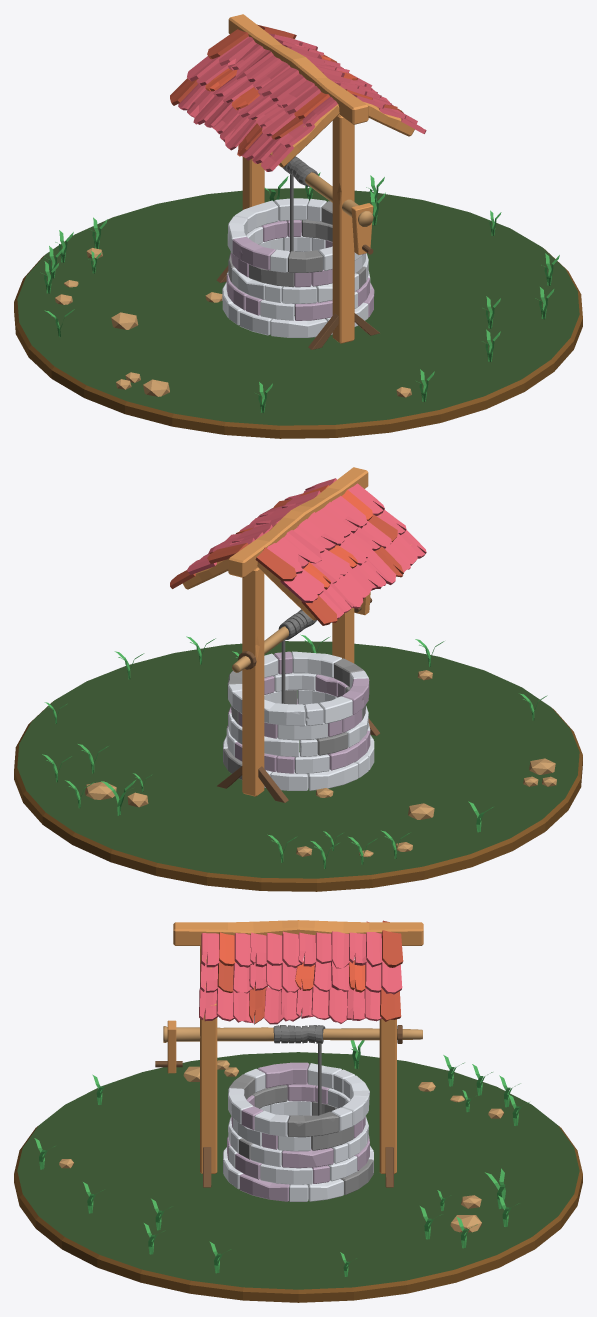
3 renders of one model, top to bottom at view 1: azimuth 30°, elevation 25°; view 2: azimuth 150°, elevation 25°; view 3: azimuth 270°, elevation 25°, orthographic.
Visible parts, largest first — view 1: Ground_11, Tiles_30, Cube_47, b5_46, b4_45, b3_44, Cube.001_48, b1_42, b2_43, Plane.001_49, Circle_50, Cube.002_51 (+1 smaller); view 2: Ground_11, Tiles_30, Cube_47, b5_46, b3_44, b4_45, Cube.001_48, b1_42, b2_43, Plane.001_49, Cube.002_51, Circle_50; view 3: Ground_11, Tiles_30, b5_46, Cube_47, Cube.001_48, b4_45, b3_44, b1_42, b2_43, Circle_50, ROPE_55, Cube.002_51 (+1 smaller).
Boxes of the visible parts, box(x1,y1,x2,y2) form: Ground_11: box(14, 188, 582, 438); Tiles_30: box(170, 24, 426, 171); Cube_47: box(242, 114, 354, 343); b5_46: box(227, 198, 363, 272); b4_45: box(231, 219, 365, 287); b3_44: box(228, 233, 368, 303); Cube.001_48: box(228, 14, 368, 124); b1_42: box(222, 282, 374, 337); b2_43: box(226, 250, 370, 320); Plane.001_49: box(270, 102, 414, 167); Circle_50: box(305, 172, 373, 226); Cube.002_51: box(216, 265, 379, 349); Ground_11: box(14, 641, 582, 891); Tiles_30: box(170, 478, 426, 625); Cube_47: box(242, 567, 354, 796); b5_46: box(227, 651, 369, 726); b3_44: box(228, 690, 368, 756); b4_45: box(231, 672, 365, 740); Cube.001_48: box(228, 467, 368, 577); b1_42: box(223, 735, 374, 790); b2_43: box(226, 699, 370, 773); Plane.001_49: box(182, 514, 411, 620); Cube.002_51: box(217, 718, 380, 802); Circle_50: box(232, 626, 289, 672); Ground_11: box(14, 1052, 582, 1302); Tiles_30: box(199, 920, 403, 1024); b5_46: box(228, 1062, 369, 1137); Cube_47: box(200, 946, 396, 1173); Cube.001_48: box(173, 920, 423, 945); b4_45: box(231, 1082, 365, 1151); b3_44: box(228, 1100, 368, 1168); b1_42: box(223, 1146, 373, 1201); b2_43: box(227, 1115, 369, 1184); Circle_50: box(163, 1026, 422, 1042); ROPE_55: box(273, 1025, 325, 1043); Cube.002_51: box(203, 1147, 393, 1187).
Bounding box in the file's own units: 65.81 × 33.16 × 65.81.
